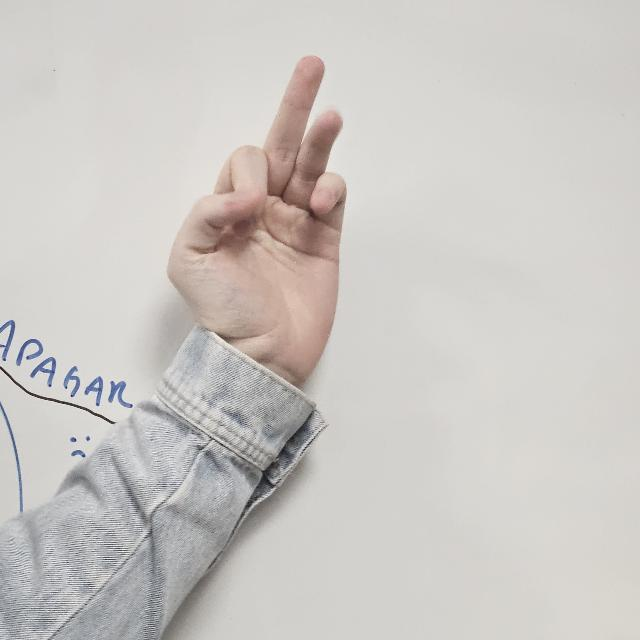R: (165, 56, 345, 388)
